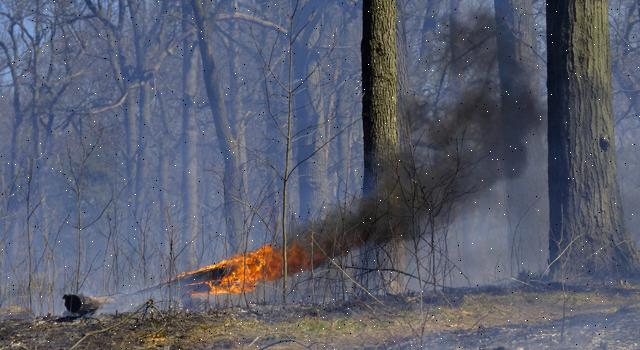fire: (165, 229, 327, 318)
